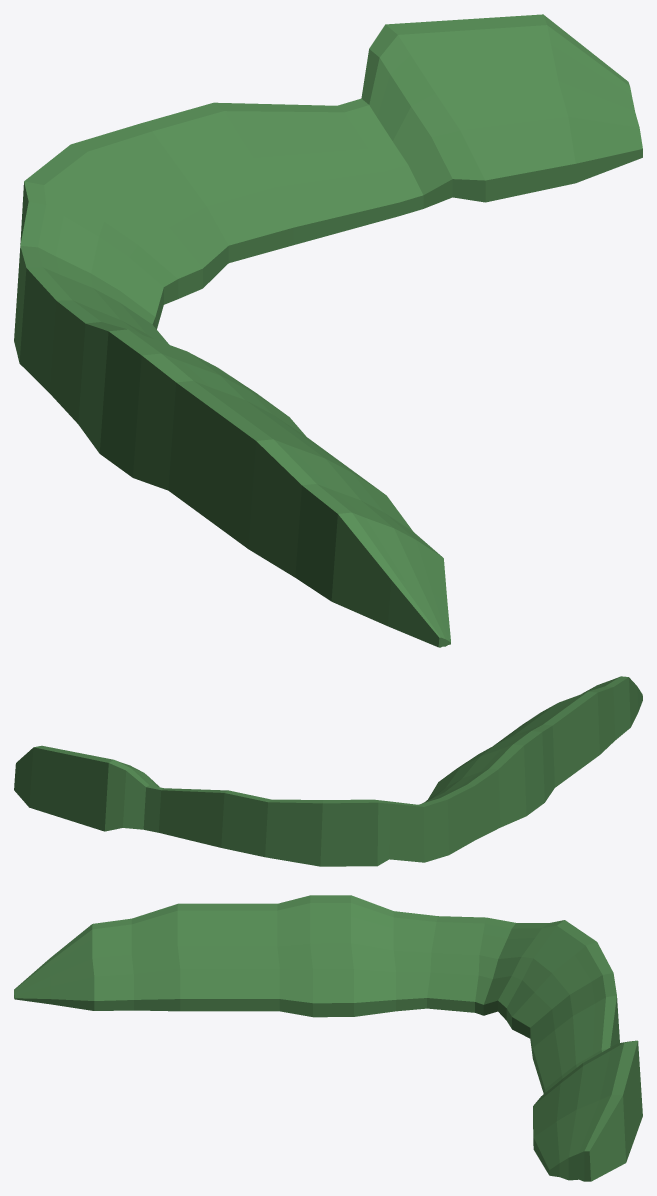
Rendered from HorizonHillA.glb.
3 views of the same model, one above another, from view 1: azimuth 30°, elevation 25°; view 2: azimuth 150°, elevation 25°; view 3: azimuth 270°, elevation 25° (orthographic). The views are drawn at different scales.
Parts seen in each view (by area): view 1: Cube; view 2: Cube; view 3: Cube.
Boxes of the visible parts, x1,y1,x2,y2 form: Cube: [14, 14, 642, 647]; Cube: [14, 676, 642, 866]; Cube: [14, 895, 642, 1181].
Bounding box in the file's own units: 42.96 × 8.4 × 52.21.
